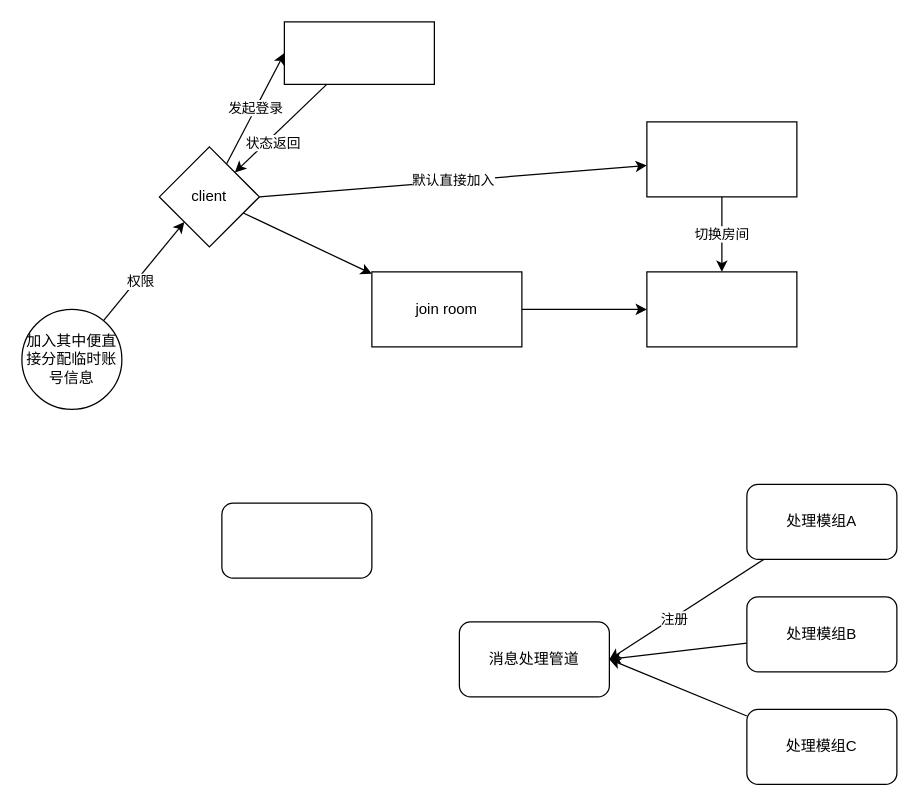
Image size: 919x806. Some labels were removed from this diagram. Here are the shapes that lost their labels. From the top down, the centre of each, then its label:
point 358,52: login
point 721,159: 公共房间
point 721,309: 房间列表，选择加入
point 296,540: 消息信息
